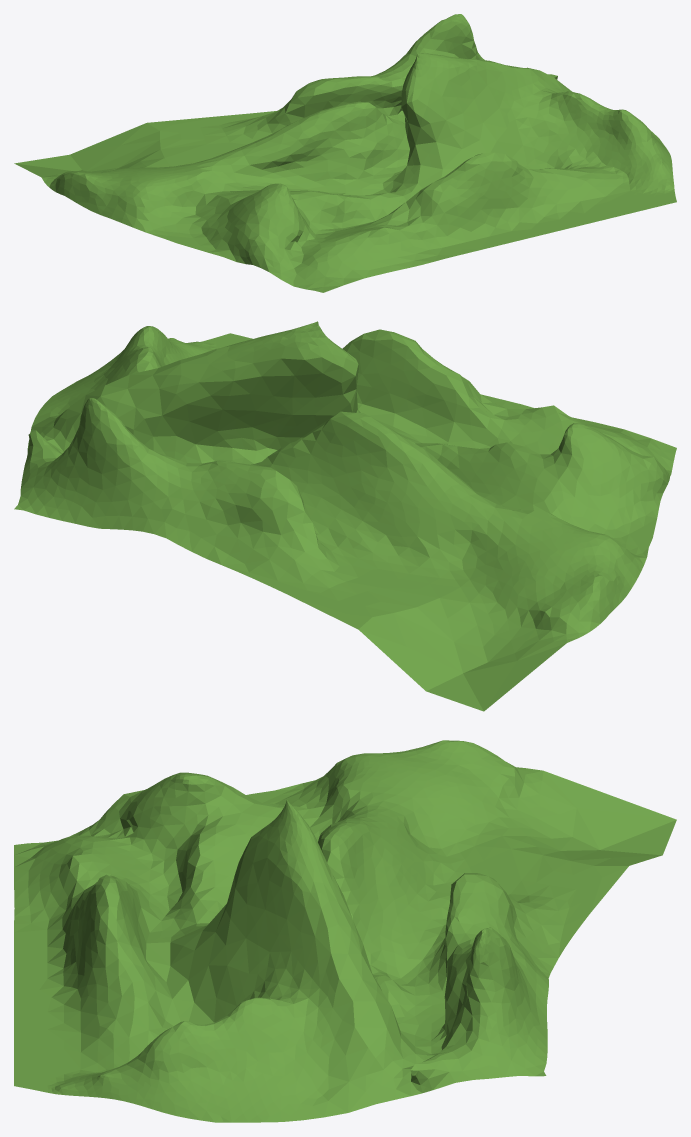
File: hill3.glb
The picture shows the model from 3 angles, top to bottom: view 1: azimuth 30°, elevation 25°; view 2: azimuth 150°, elevation 25°; view 3: azimuth 270°, elevation 25°; orthographic projection. The views are drawn at different scales.
Visible parts, largest first — view 1: Plane.003; view 2: Plane.003; view 3: Plane.003.
Part boxes in pixels (x1,y1,x2,y2): Plane.003: (14,14,676,292); Plane.003: (14,321,676,711); Plane.003: (14,740,676,1122).
Size of the model in its own units: 3.17 by 0.8543 by 2.48.
